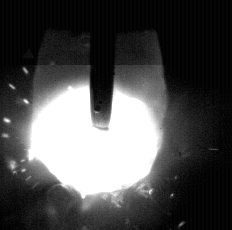arame: (91, 0, 115, 131)
poca: (29, 0, 163, 230)
